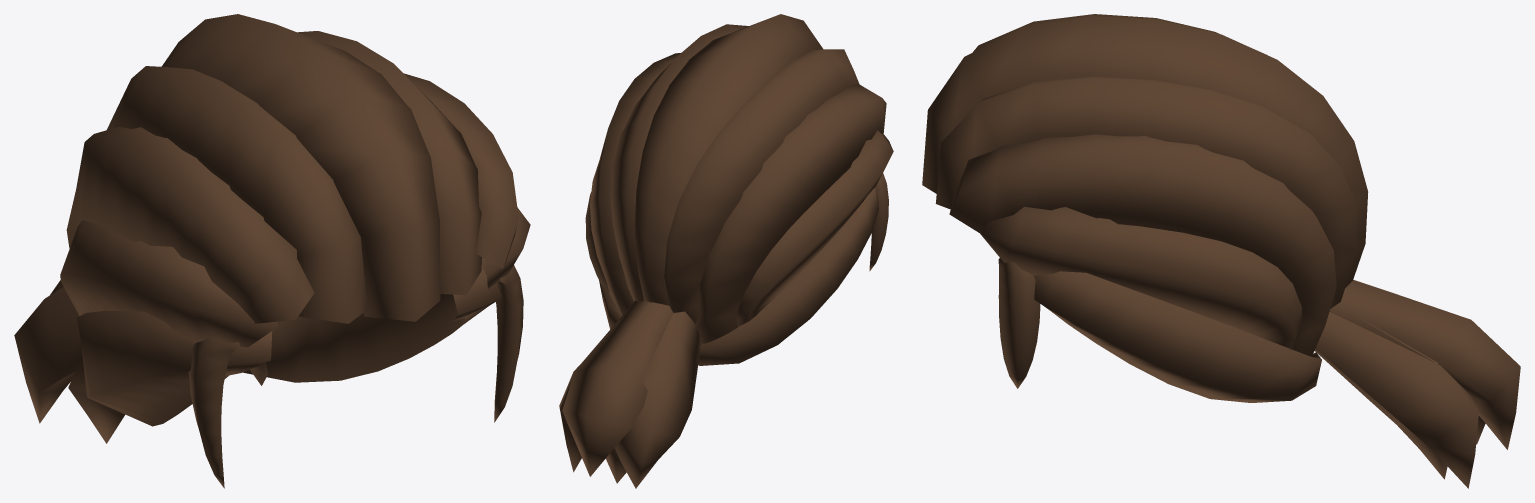
Rendered from umm_casual_2.glb.
The picture shows the model from 3 angles, left to right: view 1: azimuth 30°, elevation 25°; view 2: azimuth 150°, elevation 25°; view 3: azimuth 270°, elevation 25°; orthographic projection. The views are drawn at different scales.
Parts seen in each view (by area): view 1: Casual_2; view 2: Casual_2; view 3: Casual_2.
Part boxes in pixels (x1,y1,x2,y2): Casual_2: (14, 14, 530, 488); Casual_2: (559, 14, 893, 488); Casual_2: (922, 14, 1520, 488).
Size of the model in its own units: 0.1939 by 0.2743 by 0.3211.
